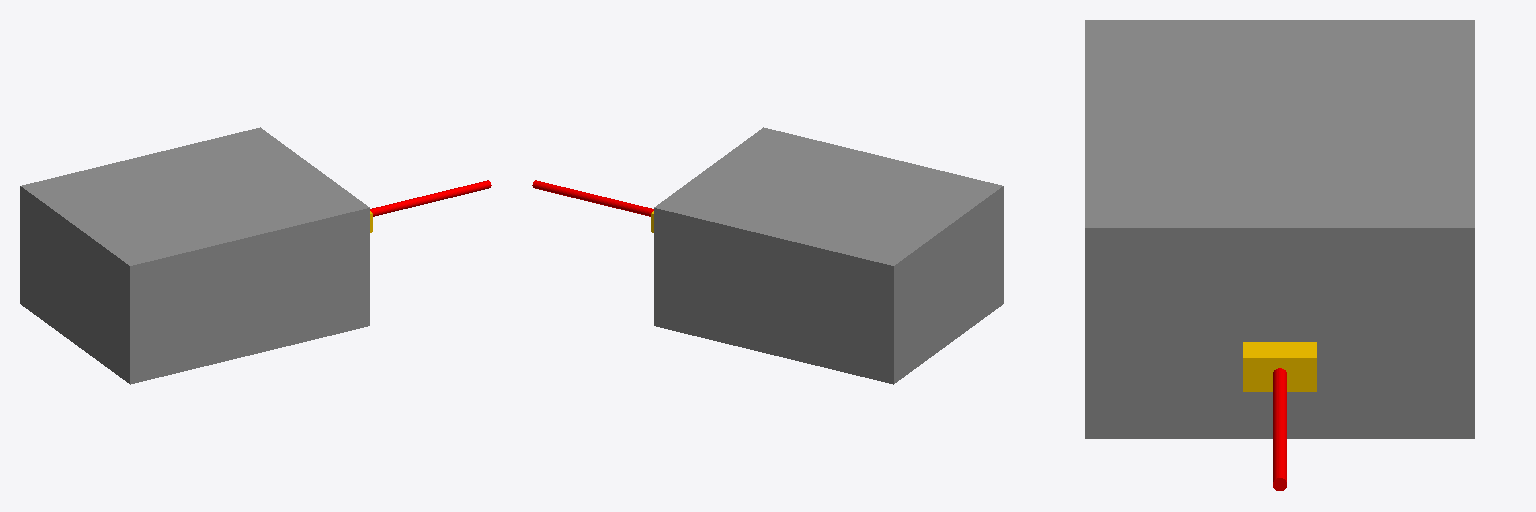
URDF robot description (rov_visual):
<?xml version="1.0"?>
<robot name="rov_visual">
  <!--
    Purely a visual skeleton of the ROV for RViz (no physics/collision at all).
    Everything hangs off "base_link" so as not to create extra TF frames that
    would collide with the ones already published by Stonefish/static_transform_publisher.
  -->
  <link name="base_link">
    <!-- Approximate hull (bounding box based on the thruster layout in underwater_world.scn) -->
    <visual>
      <origin xyz="0 0 0" rpy="0 0 0"/>
      <geometry>
        <box size="0.53 0.42 0.25"/>
      </geometry>
      <material name="hull_gray">
        <color rgba="0.6 0.6 0.6 0.35"/>
      </material>
    </visual>

    <!-- Camera / multibeam (shared mounting point, xyz="0.35 0 0" as in underwater_world.scn) -->
    <visual>
      <origin xyz="0.35 0 0" rpy="0 0 0"/>
      <geometry>
        <box size="0.04 0.08 0.04"/>
      </geometry>
      <material name="camera_yellow">
        <color rgba="1.0 0.8 0.0 1.0"/>
      </material>
    </visual>

    <!-- Arrow showing the camera's viewing direction (+X from the camera) -->
    <visual>
      <origin xyz="0.5 0 0" rpy="0 1.5707963 0"/>
      <geometry>
        <cylinder radius="0.008" length="0.3"/>
      </geometry>
      <material name="boresight_red">
        <color rgba="1.0 0.0 0.0 1.0"/>
      </material>
    </visual>
  </link>
</robot>

--- Facts derived from the render (not from the file) ---
3 views of the same robot in one strip: view 1: azimuth 30°, elevation 25°; view 2: azimuth 150°, elevation 25°; view 3: azimuth 270°, elevation 25° (orthographic).
Robot: rov_visual — 1 links, 0 joints (none); root link base_link; default pose: all joints at 0.
Links seen in each view (by area): view 1: base_link; view 2: base_link; view 3: base_link.
Boxes of the visible links, left/top/right/bottom form: base_link: left=20, top=127, right=491, bottom=384; base_link: left=532, top=127, right=1003, bottom=384; base_link: left=1085, top=20, right=1474, bottom=490.
Size in the robot's own frame: 0.915 by 0.42 by 0.25 metres.
Geometry: primitives only (box / cylinder / sphere), no mesh files.
